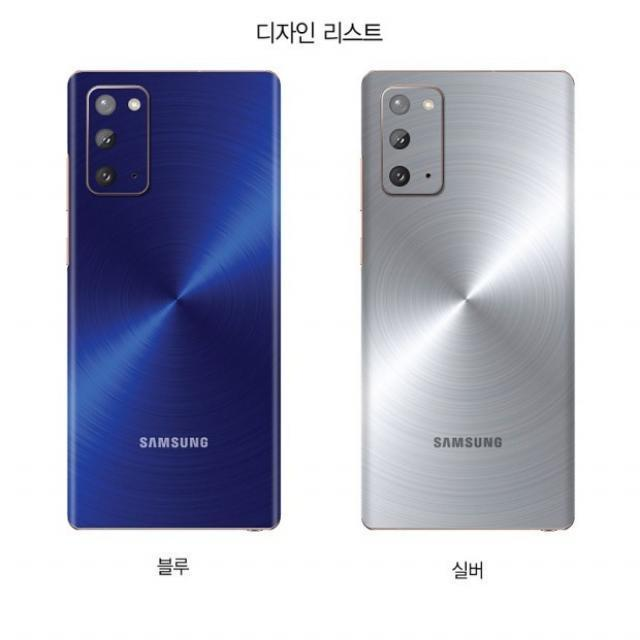phone: (62, 67, 284, 536), (358, 67, 579, 535)
